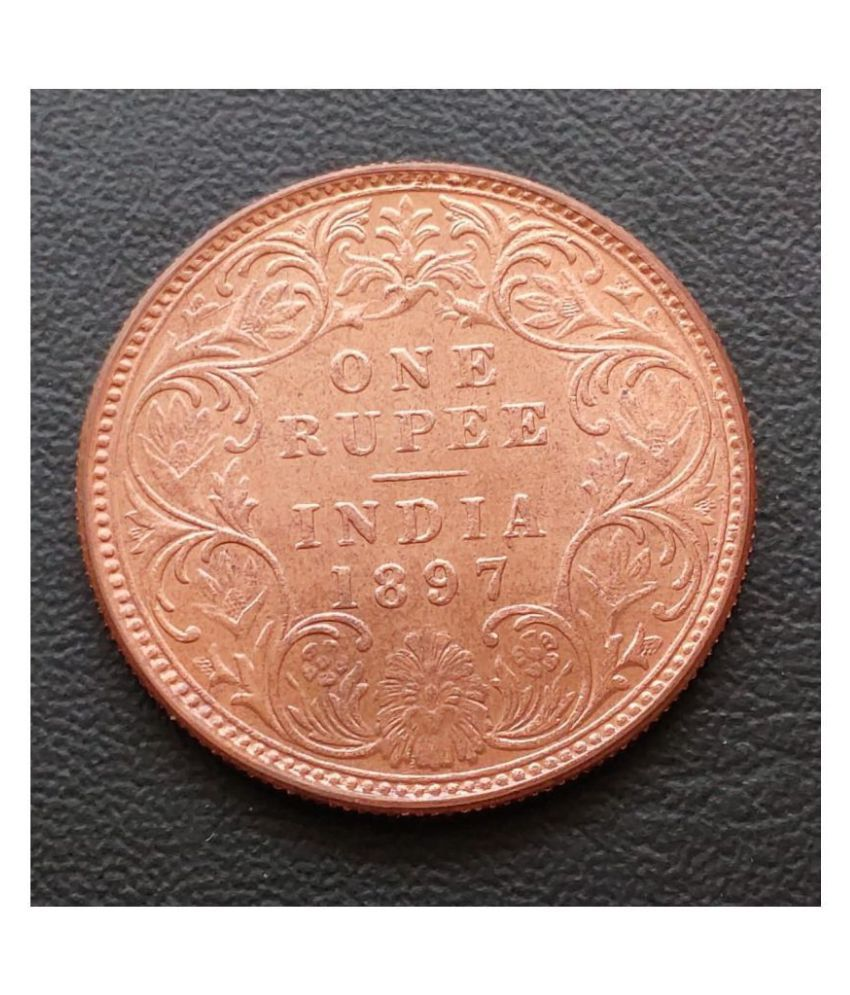norust: (34, 89, 822, 907)
